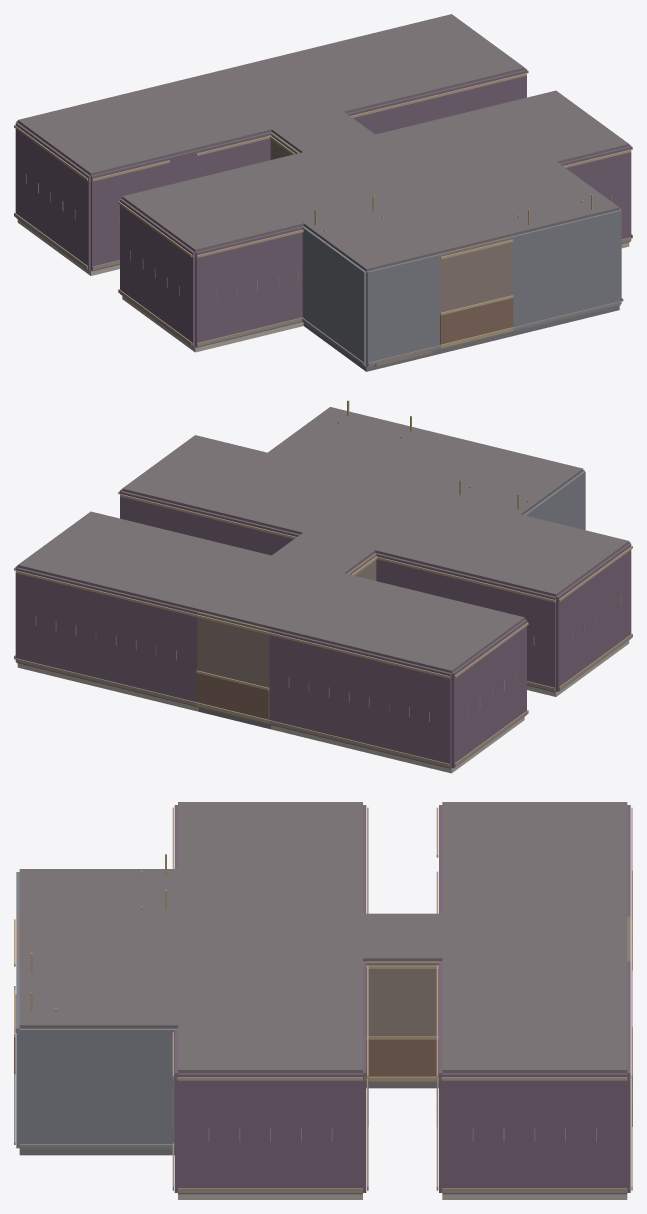
Rendered from floor_01.glb.
3 renders of one model, top to bottom at view 1: azimuth 30°, elevation 25°; view 2: azimuth 150°, elevation 25°; view 3: azimuth 270°, elevation 25°, orthographic. The views are drawn at different scales.
Visible parts, largest first — view 1: fe-f1-hall-ceiling, fe-f1-room1-ceiling, fe-f1-room2-ceiling, fe-f1-room3-ceiling, fe-f1-room4-ceiling, fe-f1-spiral-top-end, fe-f1-room3-top-end, fe-f1-room3-left-end, fe-f1-spiral-ceiling, fe-f1-room1-left-end, fe-f1-regular-top-end, fe-f1-regular-left-end (+12 smaller); view 2: fe-f1-hall-ceiling, fe-f1-room1-bottom-end, fe-f1-room2-bottom-end, fe-f1-room3-ceiling, fe-f1-room1-ceiling, fe-f1-room2-ceiling, fe-f1-room4-ceiling, fe-f1-room1-left-end, fe-f1-room3-left-end, fe-f1-spiral-ceiling, fe-f1-room3-bottom-end, fe-f1-regular-ceiling (+12 smaller); view 3: fe-f1-hall-ceiling, fe-f1-room2-ceiling, fe-f1-room2-right-end, fe-f1-room4-ceiling, fe-f1-room4-right-end, fe-f1-room1-ceiling, fe-f1-room3-ceiling, fe-f1-spiral-right-end, fe-f1-spiral-ceiling, fe-f1-regular-ceiling, fe-f1-hall-right-1-solid, fe-f1-hall-right-finish-1-solid-lower (+13 smaller).
Part boxes in pixels (x1,y1,x2,y2): fe-f1-hall-ceiling: (199,58,510,253); fe-f1-room1-ceiling: (17,76,271,175); fe-f1-room2-ceiling: (271,14,524,113); fe-f1-room3-ceiling: (122,152,375,252); fe-f1-room4-ceiling: (375,90,629,187); fe-f1-spiral-top-end: (511,210,620,331); fe-f1-room3-top-end: (195,226,304,347); fe-f1-room3-left-end: (120,199,195,347); fe-f1-spiral-ceiling: (448,161,619,236); fe-f1-room1-left-end: (15,122,90,270); fe-f1-regular-top-end: (366,254,439,366); fe-f1-regular-left-end: (302,227,366,366); fe-f1-hall-ceiling: (198,433,510,628); fe-f1-room1-bottom-end: (269,629,451,768); fe-f1-room2-bottom-end: (16,567,198,706); fe-f1-room3-ceiling: (375,497,629,596); fe-f1-room1-ceiling: (271,573,524,673); fe-f1-room2-ceiling: (17,511,271,611); fe-f1-room4-ceiling: (122,435,375,534); fe-f1-room1-left-end: (451,620,526,768); fe-f1-room3-left-end: (556,543,631,691); fe-f1-spiral-ceiling: (268,407,437,478); fe-f1-room3-bottom-end: (374,553,555,692); fe-f1-regular-ceiling: (448,451,583,514); fe-f1-hall-ceiling: (19,913,627,961); fe-f1-room2-ceiling: (442,958,627,1073); fe-f1-room2-right-end: (442,1073,627,1194); fe-f1-room4-ceiling: (178,958,362,1073); fe-f1-room4-right-end: (178,1073,362,1194); fe-f1-room1-ceiling: (442,802,627,913); fe-f1-room3-ceiling: (178,802,362,913); fe-f1-spiral-right-end: (19,1028,177,1149); fe-f1-spiral-ceiling: (19,958,177,1028); fe-f1-regular-ceiling: (19,869,177,913); fe-f1-hall-right-1-solid: (363,961,442,1082); fe-f1-hall-right-finish-1-solid-lower: (366,1039,438,1076).
Size of the model in its own units: 14.89 by 3.79 by 14.28.
